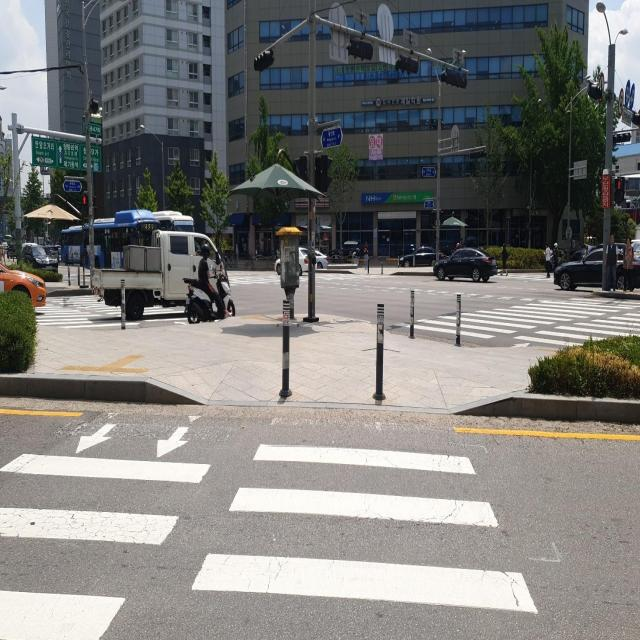빨간불: (81, 188, 89, 223)
횡단보도: (0, 410, 540, 639), (379, 262, 640, 354), (22, 271, 138, 327)
